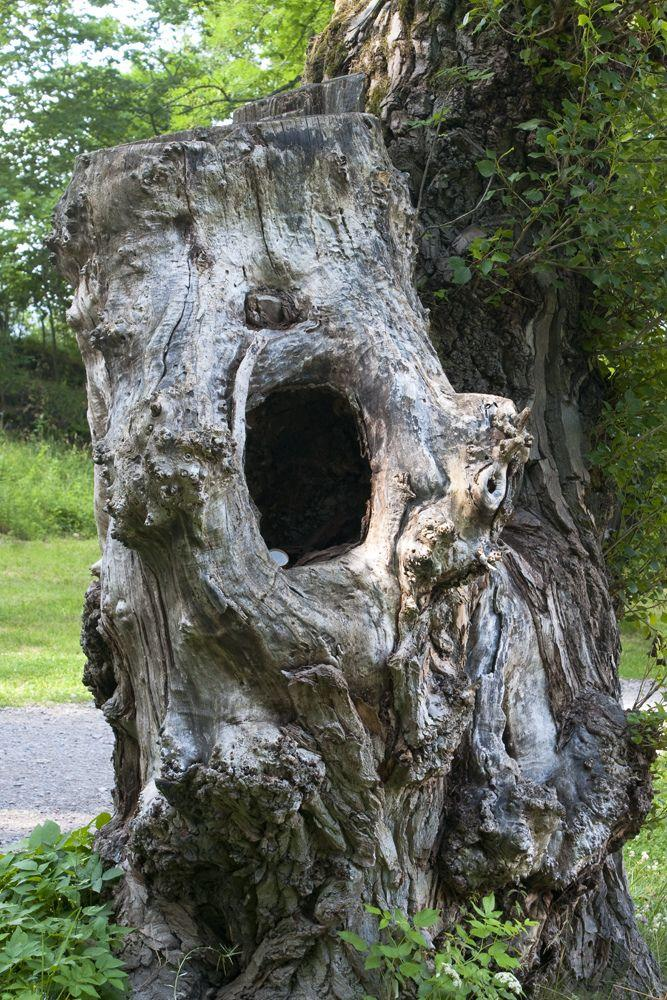hollow: (245, 387, 370, 564)
